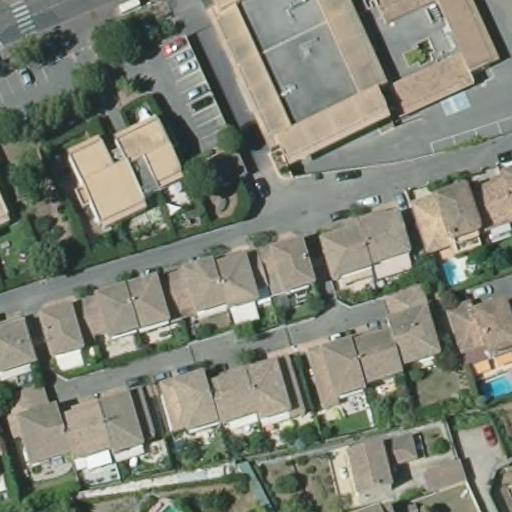pool: (475, 372, 511, 399), (440, 256, 467, 290)
